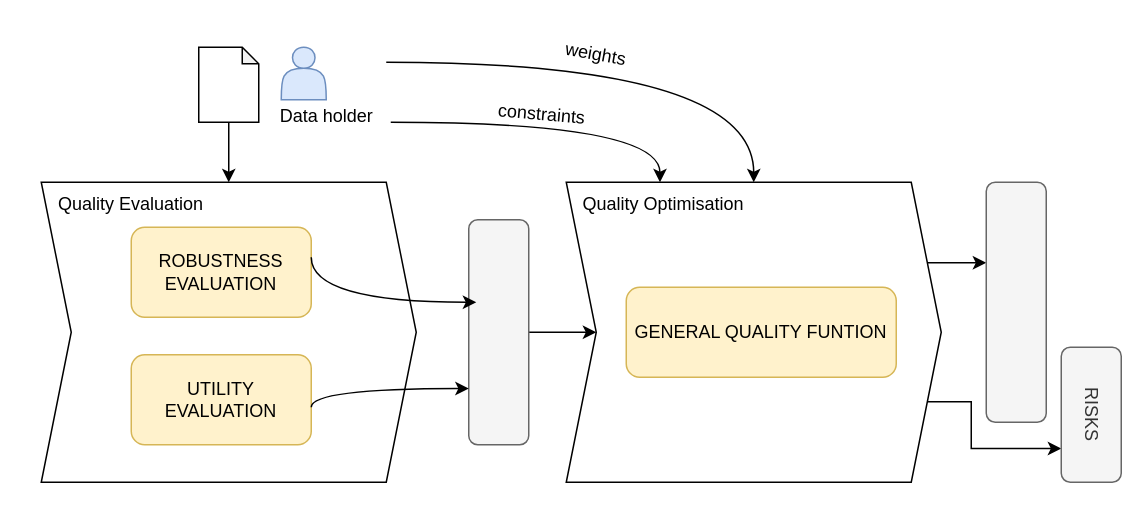
Image size: 1148x510. Some labels were removed from this diagram. The centre of each missing label's shape, as x and y in pixels:
"SOLUTION RANKING" goes at pixel 1015 301.
"trends rel. to params" goes at pixel 498 331.
